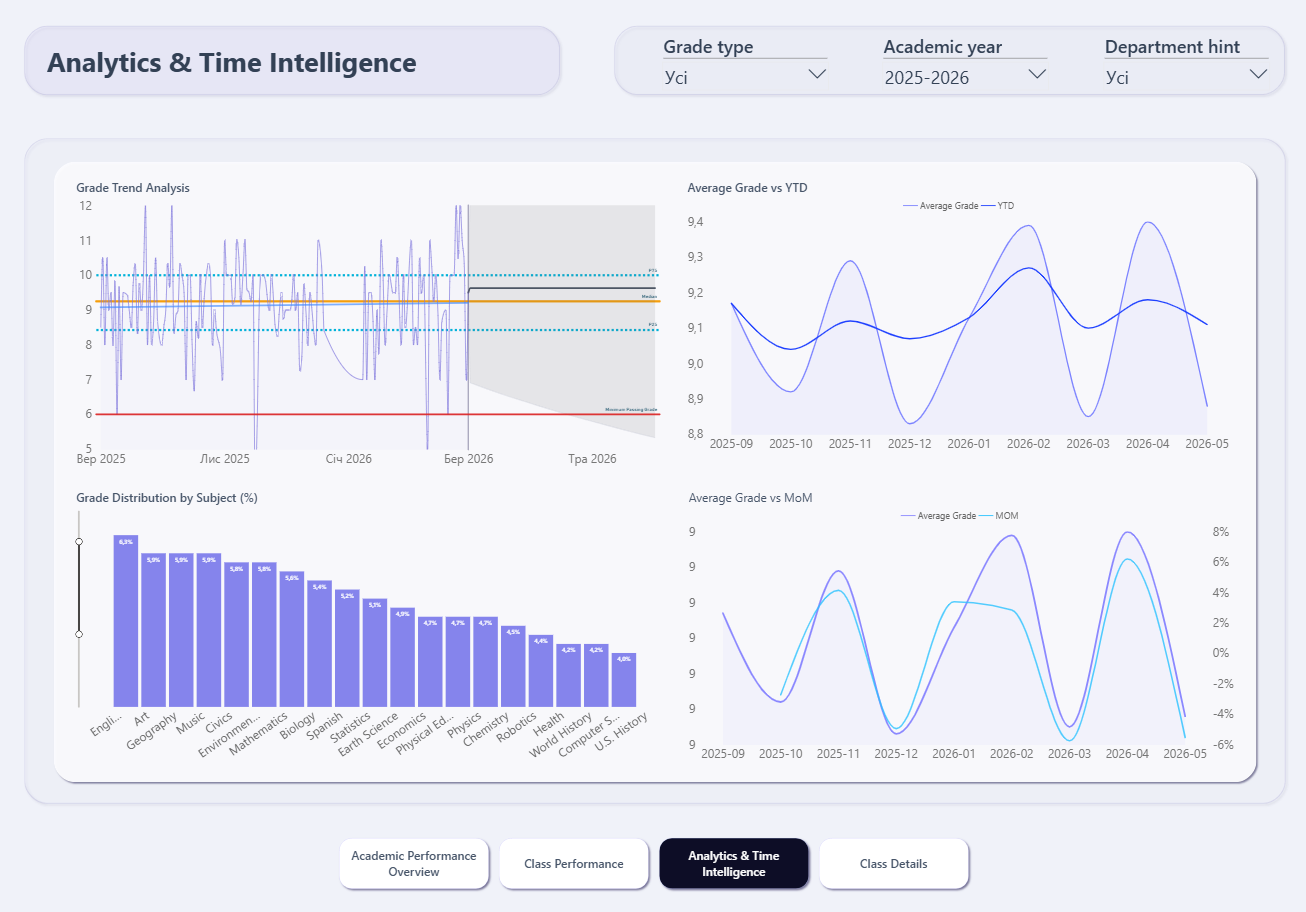

The dashboard page shown, as its layout file describes it:
{"tool":"powerbi","page":{"name":"Analytics & Time Intelligence","canvas":[2925,2050],"ordinal":2},"visuals":[{"type":"shape","box":[1364.3,53,1514.9,172.5],"z":0,"group":"g1"},{"type":"shape","box":[47.9,305.3,2833.3,1503.3],"z":0},{"type":"slicer","fields":{"Values":["grades.grade_type"]},"box":[1471.6,75.3,391.8,150.7],"z":1000,"group":"g1"},{"type":"shape","box":[47.4,53,1213.6,173],"z":2000},{"type":"slicer","fields":{"Values":["periods.academic_year"]},"box":[1962.7,75.3,391.8,150.7],"z":2000,"group":"g1"},{"type":"slicer","fields":{"Values":["subjects.department_hint"]},"box":[2453.8,75.3,391.8,150.7],"z":3000,"group":"g1"},{"type":"pageNavigator","box":[750,1866.7,1424,130],"z":6000},{"type":"group","id":"g1","title":"Група 3","box":[1364.3,53,1514.9,173],"z":7000},{"type":"shape","title":"Homework Average Grade","box":[113.8,356.2,2700.2,1401],"z":8000},{"type":"lineChart","title":"Average Grade vs MoM","fields":{"Y":["_Measures.Average Grade"],"Category":["Calendar.Year-Month"],"Y2":["Calendar.MOM"]},"box":[1533.3,1096.7,1226.7,620],"z":8500},{"type":"lineChart","title":"Grade Trend Analysis","fields":{"Y":["_Measures.Average Grade"],"Category":["grades.grade_date"]},"box":[167.5,405,1347.1,652.6],"z":9000},{"type":"columnChart","title":"Grade Distribution by Subject (%)","fields":{"Category":["subjects.subject_name"],"Y":["Sum(grades.grade_id)"]},"box":[166.7,1096.7,1346.7,620],"z":9500},{"type":"lineChart","title":"Average Grade vs YTD","fields":{"Y":["_Measures.Average Grade","Calendar.YTD"],"Category":["Calendar.Year-Month"]},"box":[1532.7,404.1,1227.4,619.7],"z":10000}]}

Visuals, with their boxes in screenshot pixels (x1, y1, x2, y2), scaled from the page's 2925x2050 canvas onto the 1306x912 screenshot:
shape: <box>609,24,1286,100</box>
shape: <box>21,136,1286,805</box>
slicer - grades.grade_type: <box>657,33,832,101</box>
shape: <box>21,24,563,101</box>
slicer - periods.academic_year: <box>876,33,1051,101</box>
slicer - subjects.department_hint: <box>1096,33,1271,101</box>
pageNavigator: <box>335,830,971,888</box>
"Група 3" group: <box>609,24,1286,101</box>
"Homework Average Grade" shape: <box>51,158,1256,782</box>
"Average Grade vs MoM" lineChart: <box>685,488,1232,764</box>
"Grade Trend Analysis" lineChart: <box>75,180,676,471</box>
"Grade Distribution by Subject (%)" columnChart: <box>74,488,676,764</box>
"Average Grade vs YTD" lineChart: <box>684,180,1232,455</box>
